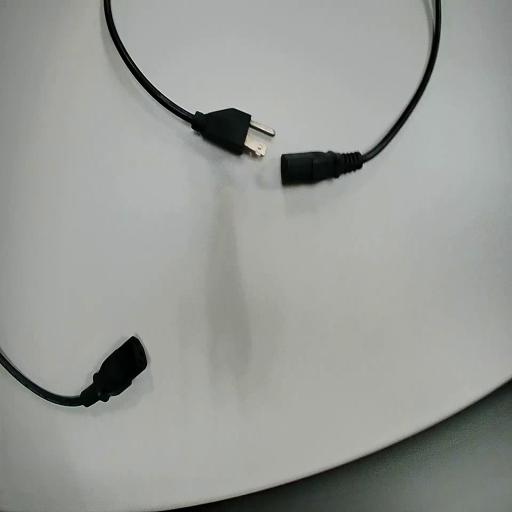wire: (281, 0, 439, 185), (104, 0, 251, 155), (0, 337, 146, 405)
